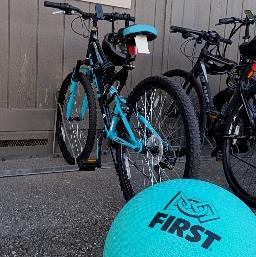algae: (101, 177, 256, 257)
